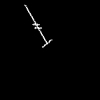treble_crochet: (25, 5, 50, 45)
